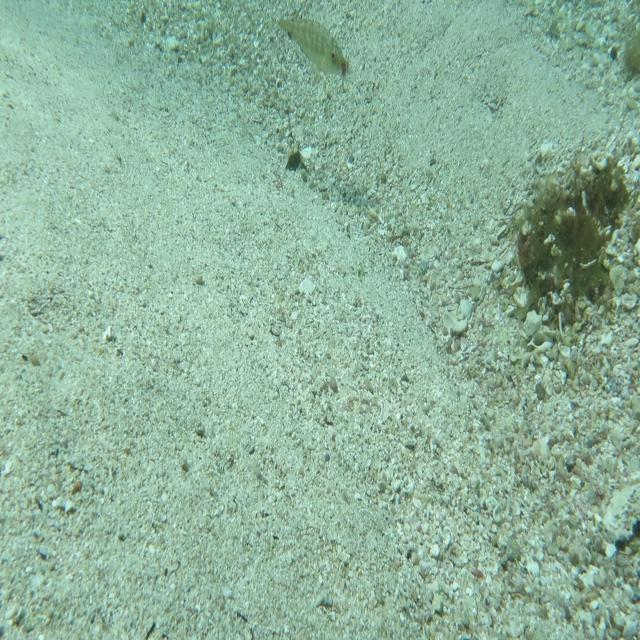AM: (273, 11, 347, 78)
core_nest: (590, 172, 625, 208)
nest: (516, 150, 633, 337)
nest_material: (341, 59, 349, 80)
vegetation: (618, 18, 640, 89), (287, 147, 304, 173)
